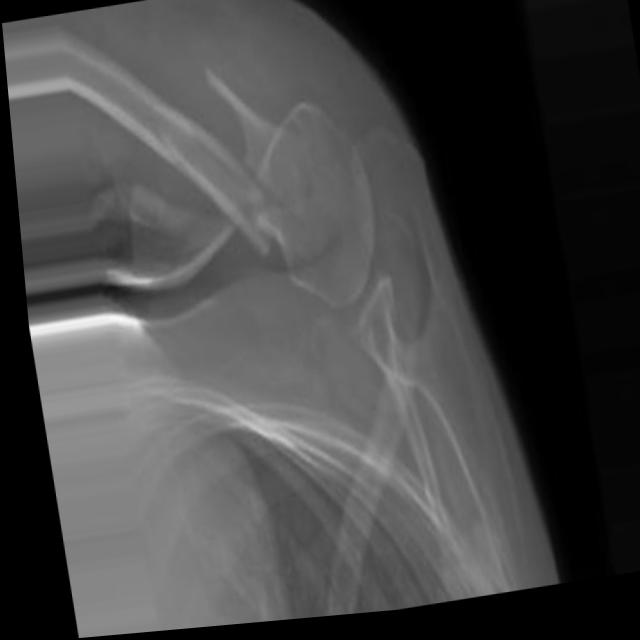fracture: (172, 46, 294, 285)
